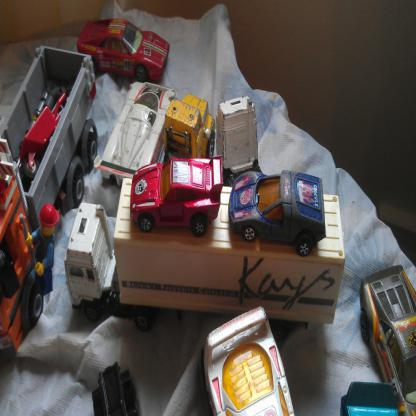Car: (200, 309, 299, 416), (361, 267, 416, 415), (230, 175, 326, 255), (132, 155, 224, 237), (77, 22, 168, 84), (340, 385, 410, 416)
